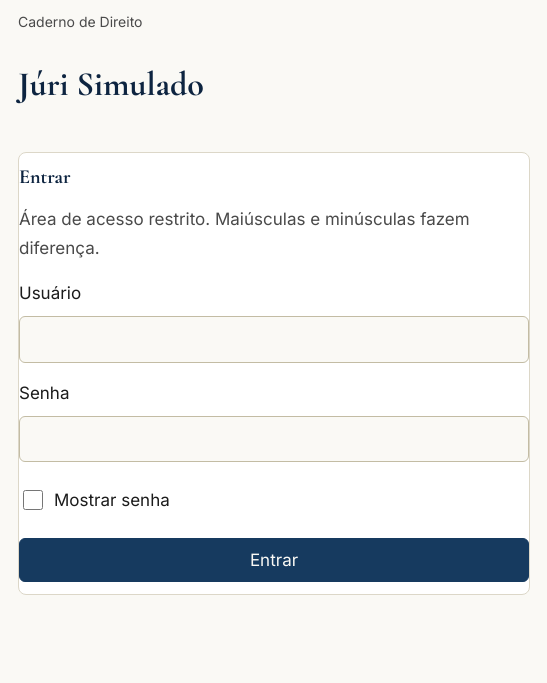
Test: AreaJuri: entrada › senha errada mostra mensagem genérica e fica deslogado
The width and height of the screenshot is (547, 683).
Type "admin" into the field named "usuario" at {"x": 274, "y": 339}, box [19,316,529,363]
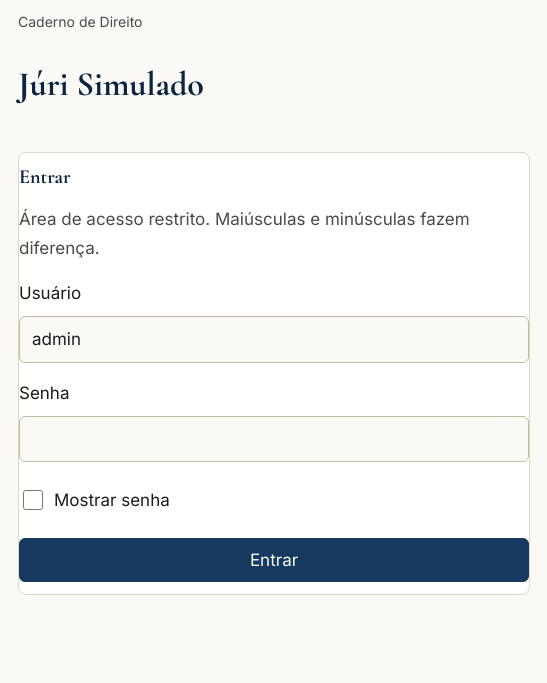
Type "senha-errada-sintetica" into the password field named "senha" at {"x": 274, "y": 439}, box [19,416,529,462]
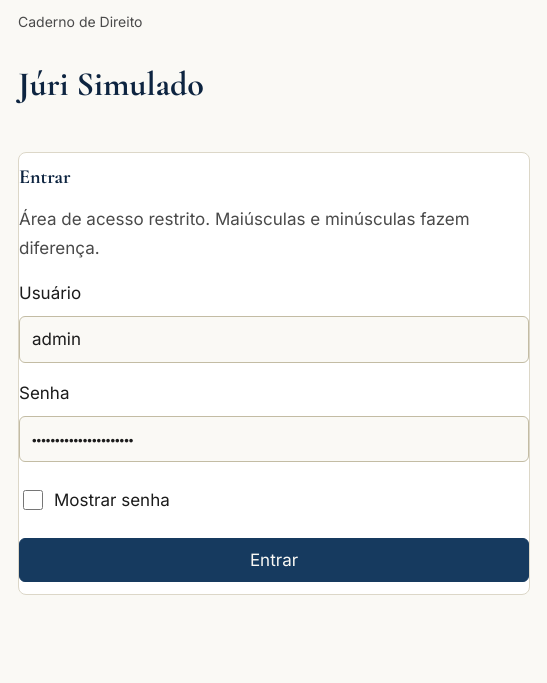
Submit the form
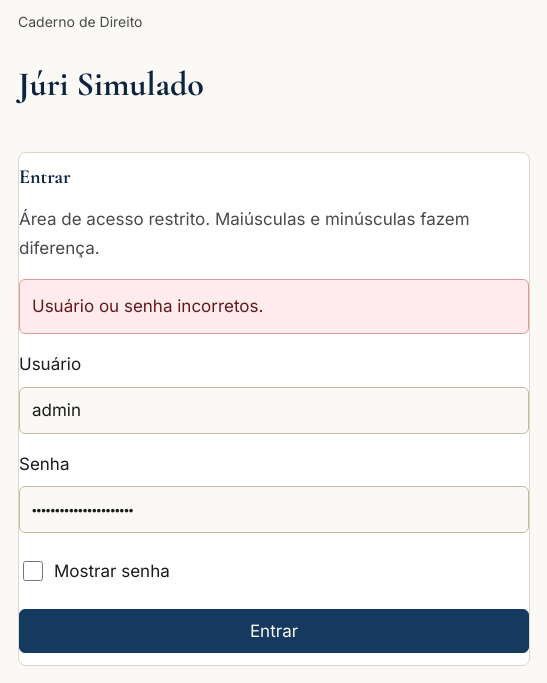
Result: the message "Usuário ou senha incorretos." is shown at [19,279,529,334]
